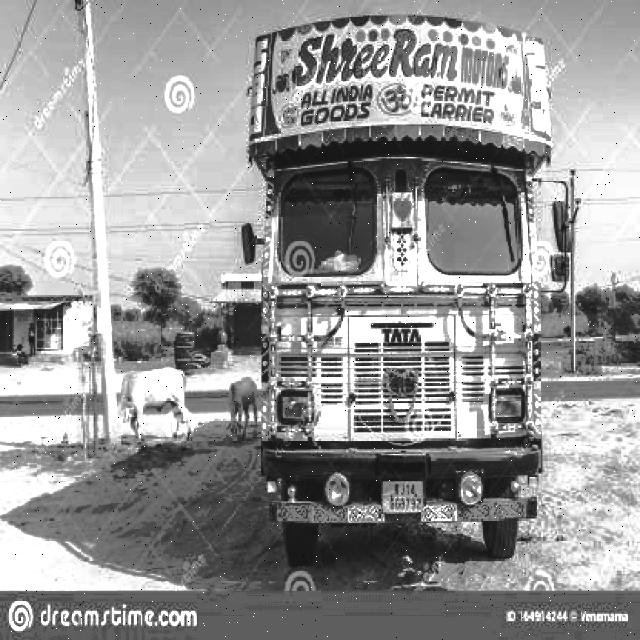HCV: (245, 6, 559, 589)
